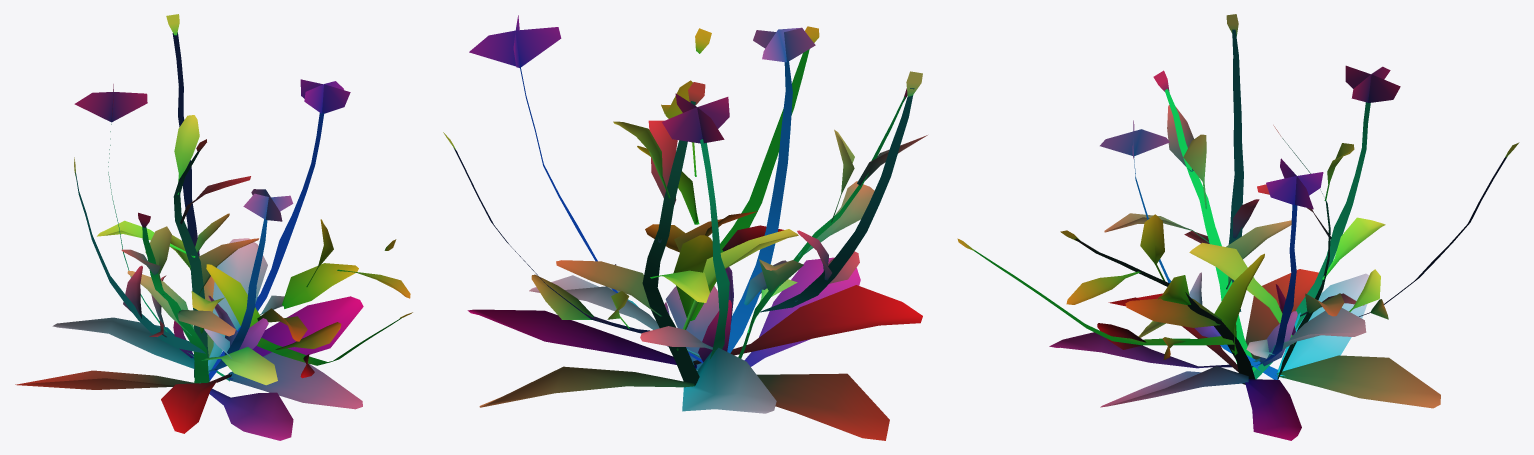
The model's file is Field_Poppy_vmcobd0ja_Low_vmcobd0ja_VarD_LOD1.fbx.
3 renders of one model, left to right at view 1: azimuth 30°, elevation 25°; view 2: azimuth 150°, elevation 25°; view 3: azimuth 270°, elevation 25°, orthographic. The views are drawn at different scales.
Parts seen in each view (by area): view 1: _kmb2_VarD_LOD3; view 2: _kmb2_VarD_LOD3; view 3: _kmb2_VarD_LOD3.
Boxes of the visible parts, x1,y1,x2,y2 form: _kmb2_VarD_LOD3: (15, 14, 412, 440); _kmb2_VarD_LOD3: (443, 15, 927, 440); _kmb2_VarD_LOD3: (957, 14, 1519, 440).
Size of the model in its own units: 55.92 by 43.22 by 75.84.
